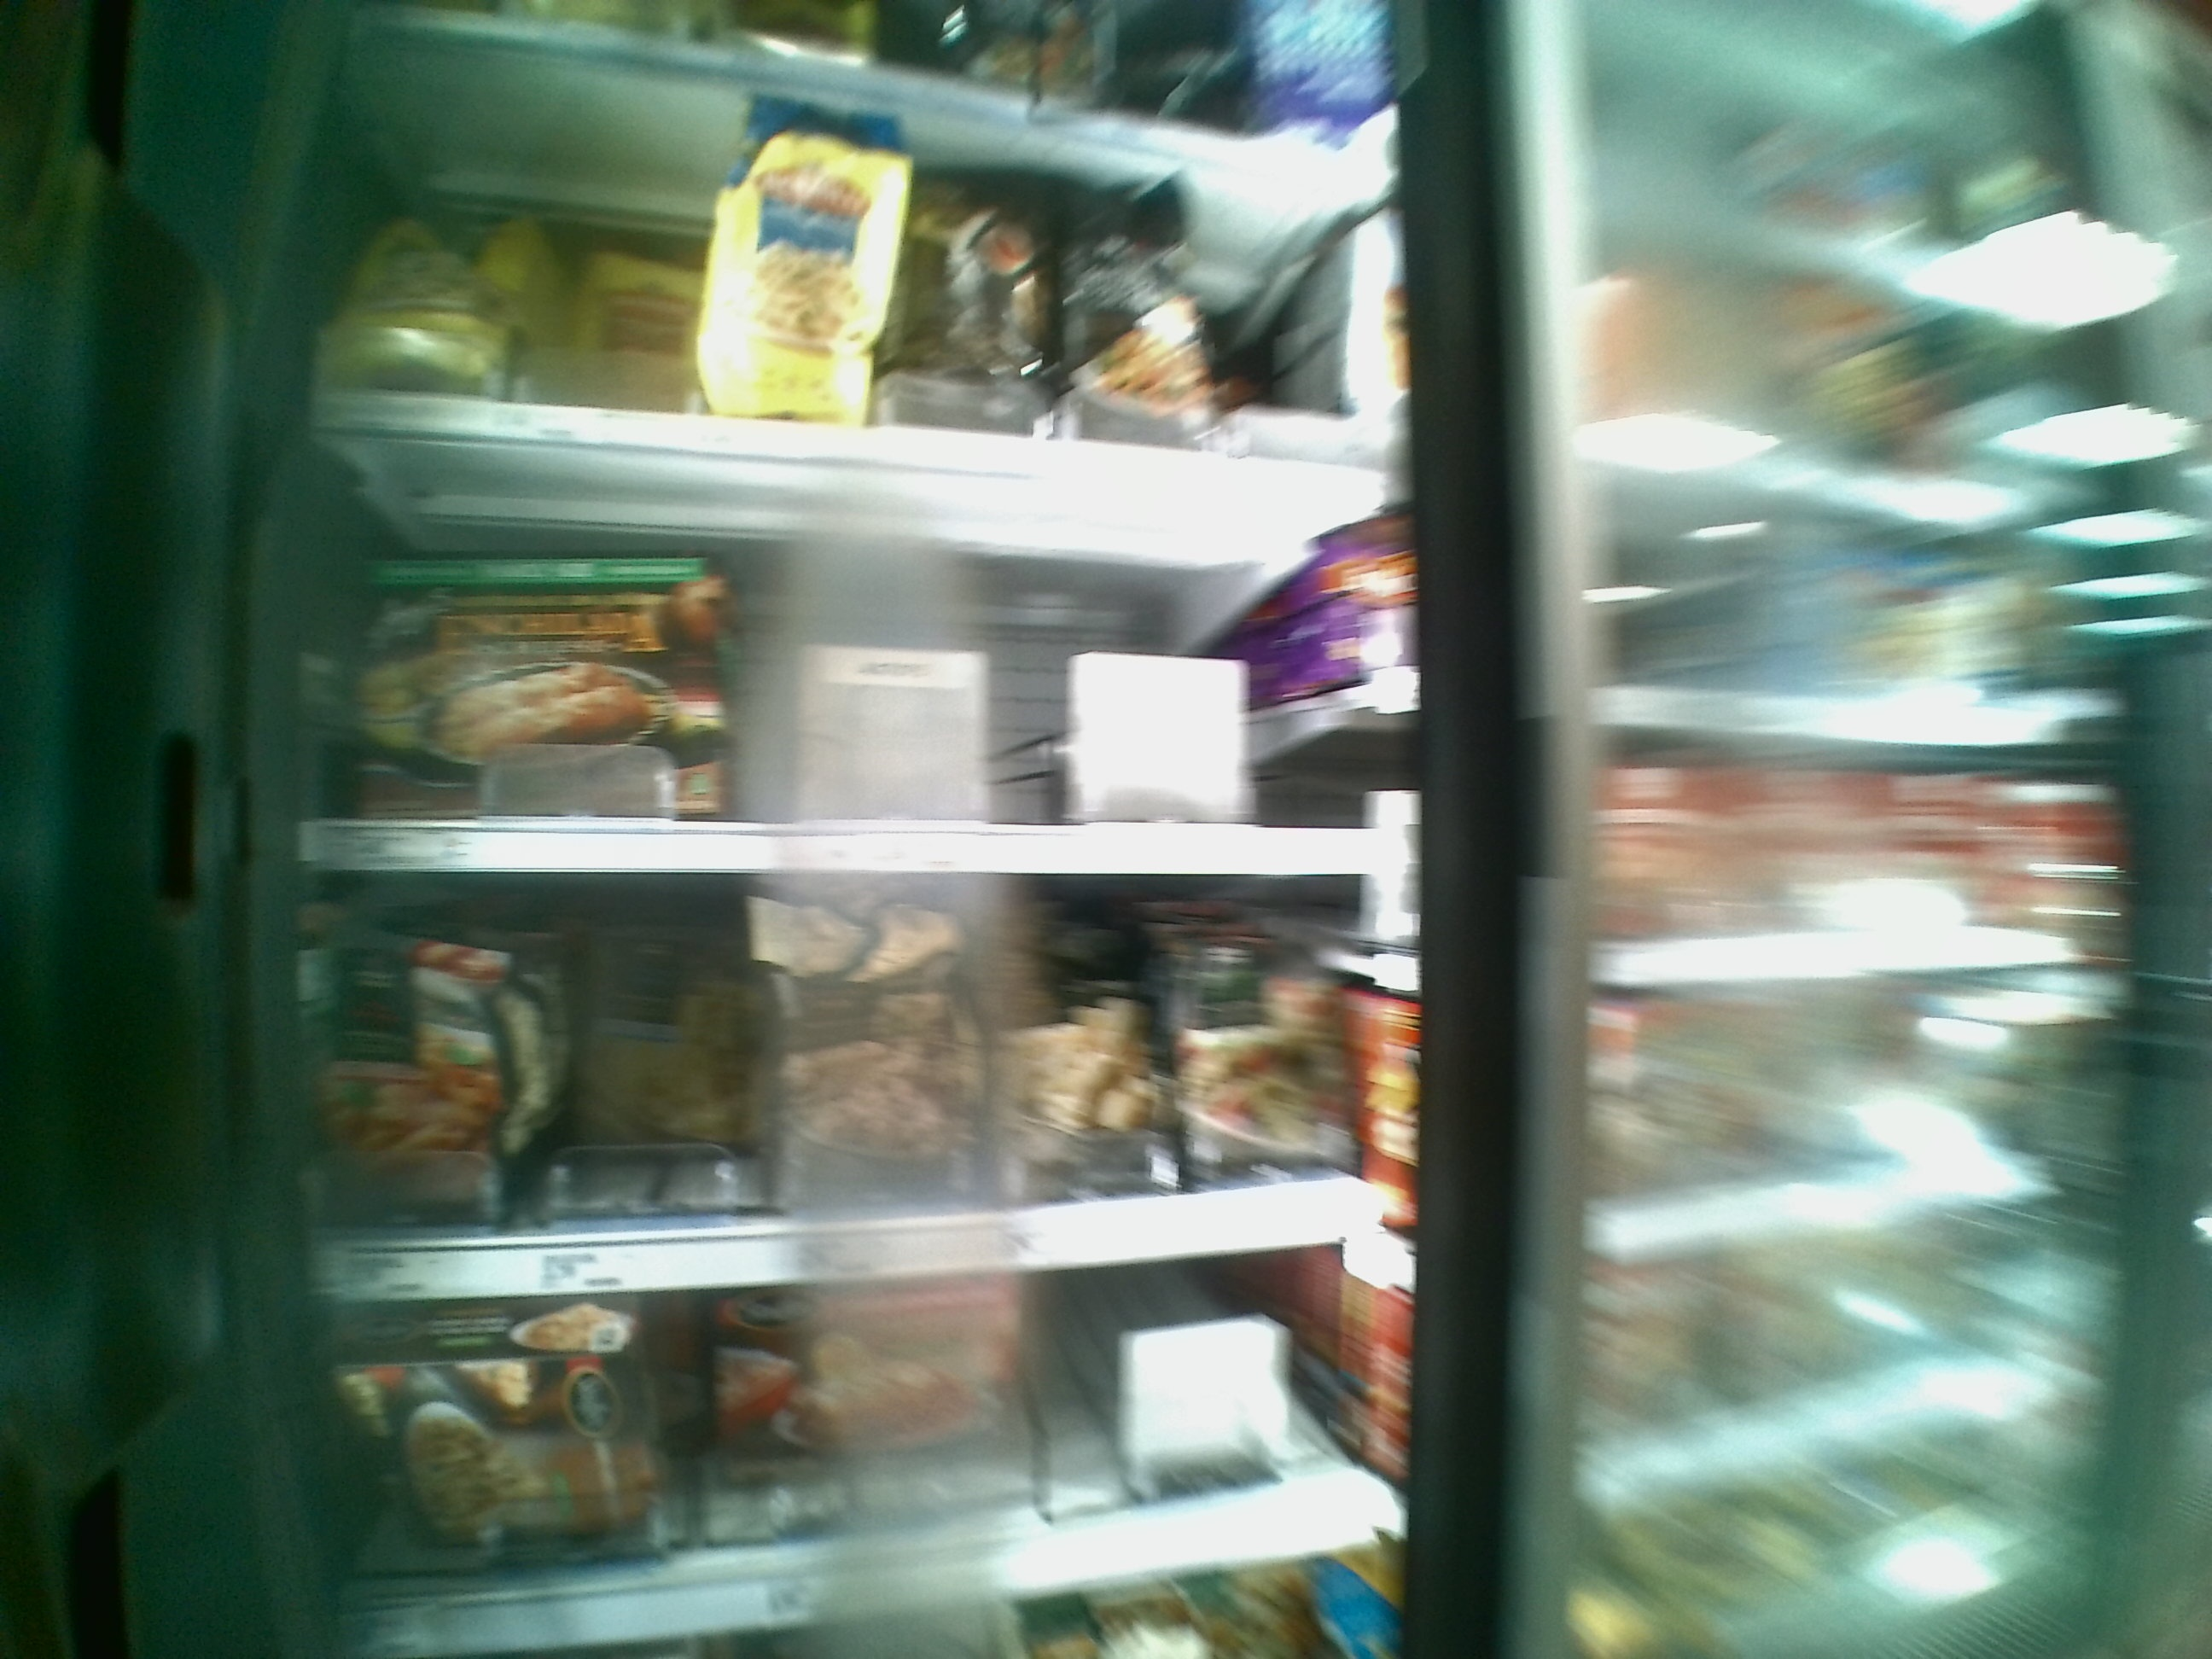shelf: (308, 443, 1390, 873), (312, 887, 1399, 1291), (331, 1298, 1386, 1659)
